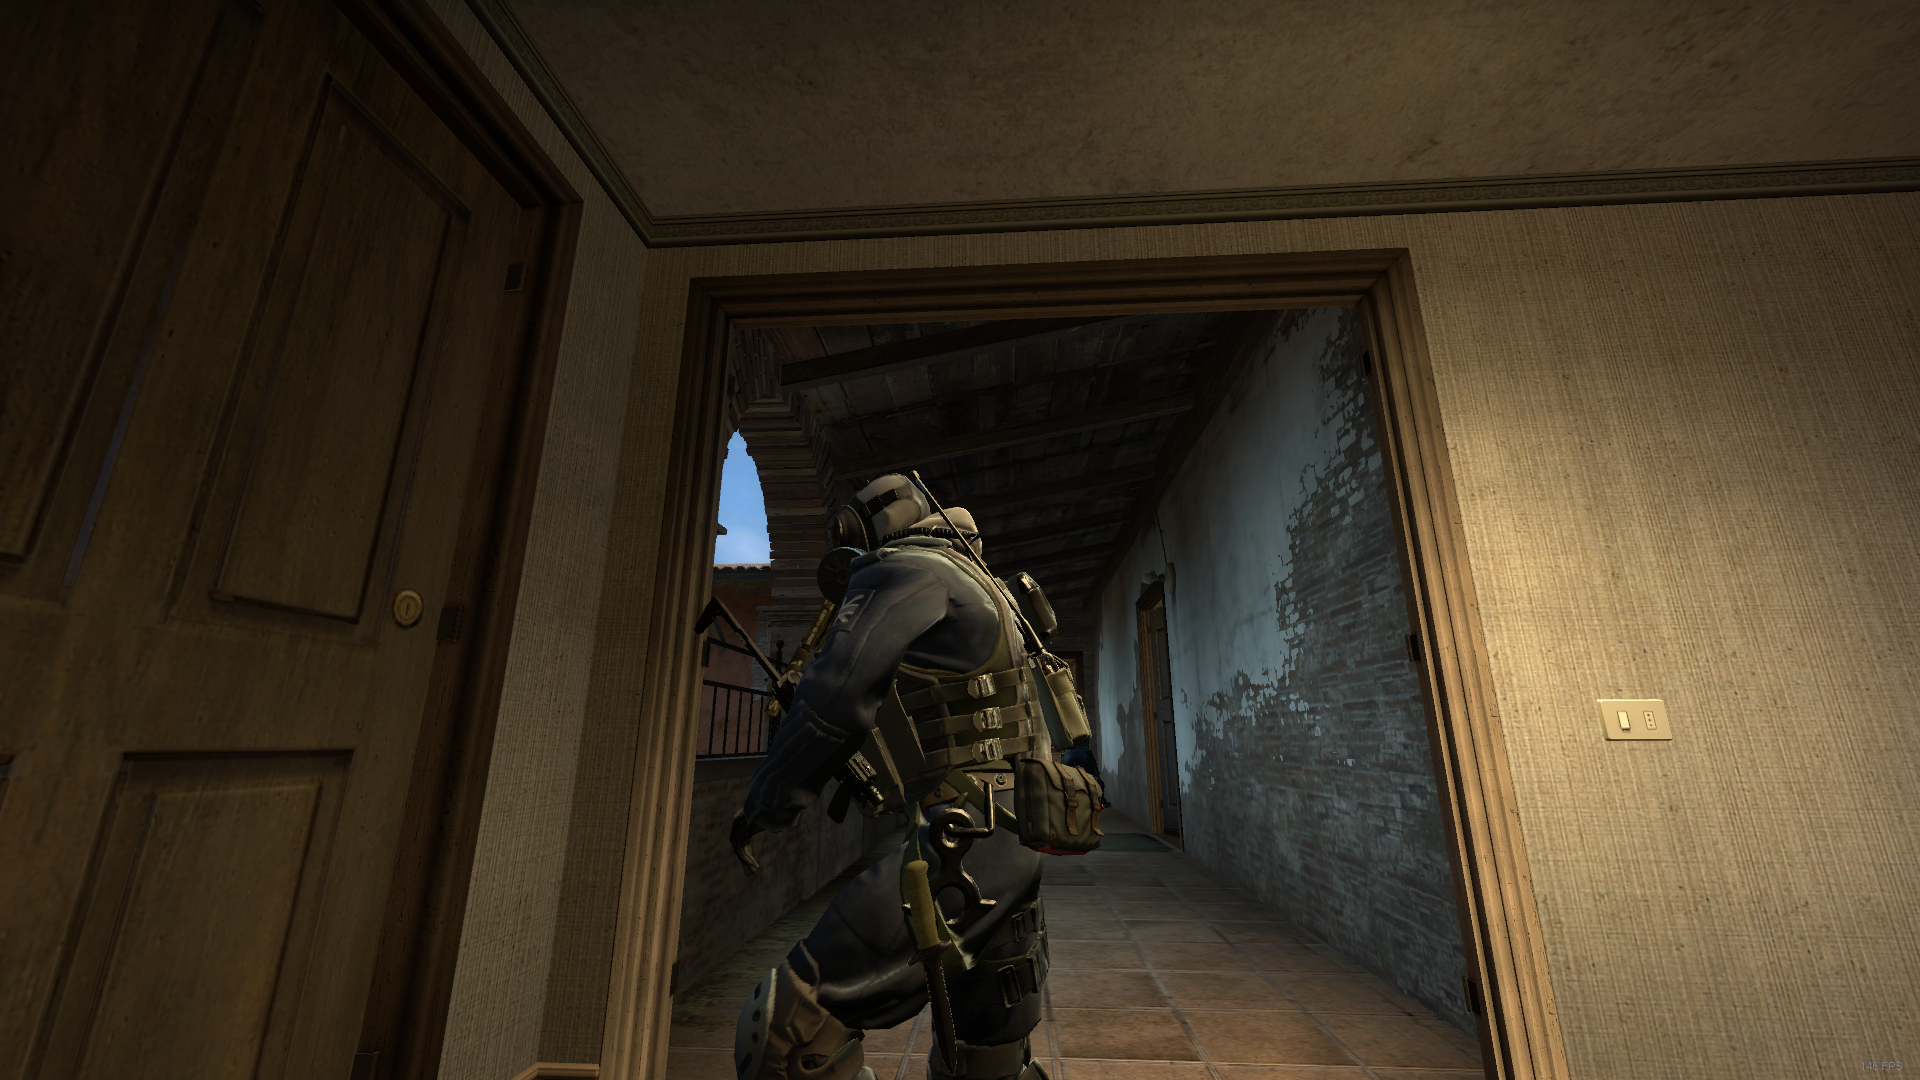ct: (709, 460, 1118, 1080)
